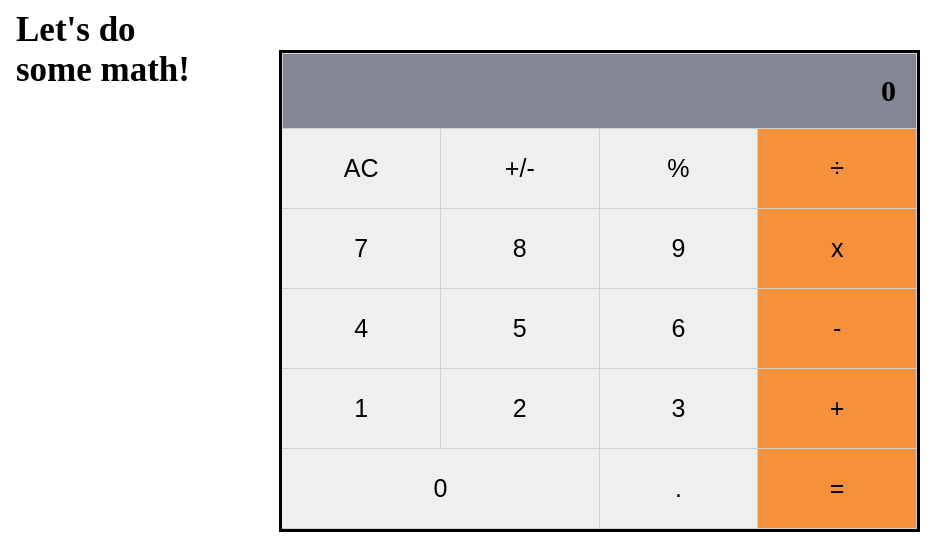
it: Testing for calculator › See if the result of the operation 6*6 is 24
Step 1. Click the button "6" → [679, 329], box x1=600 y1=289 x2=758 y2=369
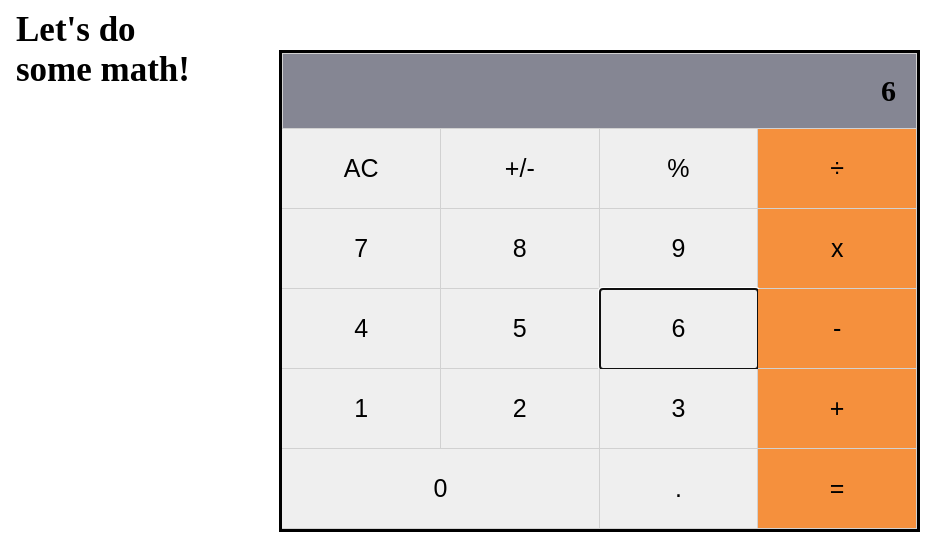
Step 2. Click the button "x" → [838, 249], box x1=758 y1=209 x2=917 y2=289
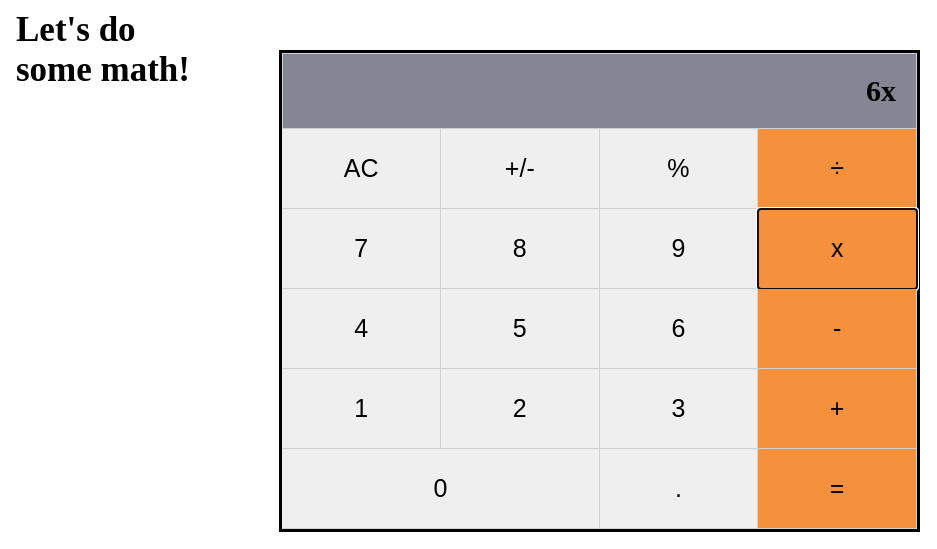
Step 3. Click the button "6" → [679, 329], box x1=600 y1=289 x2=758 y2=369
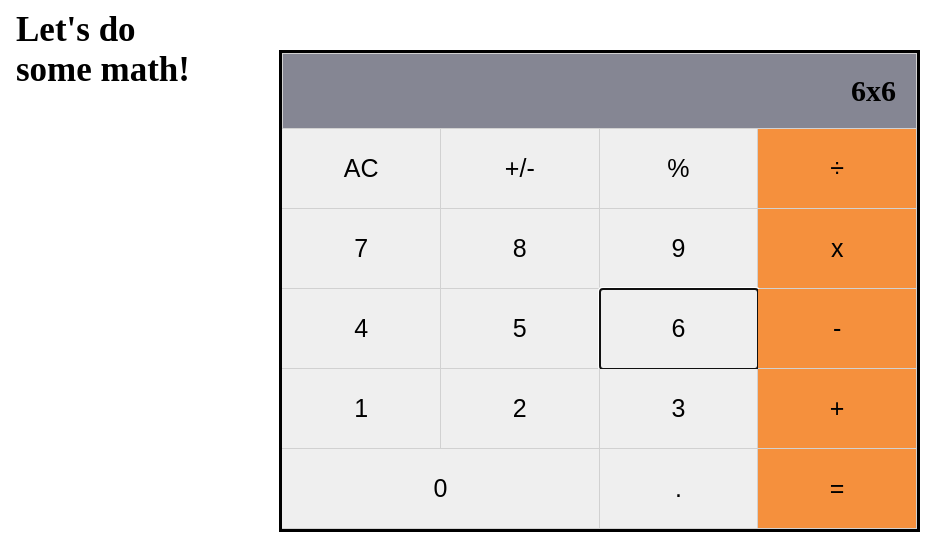
Step 4. Click the button "=" → [838, 489], box x1=758 y1=449 x2=917 y2=529
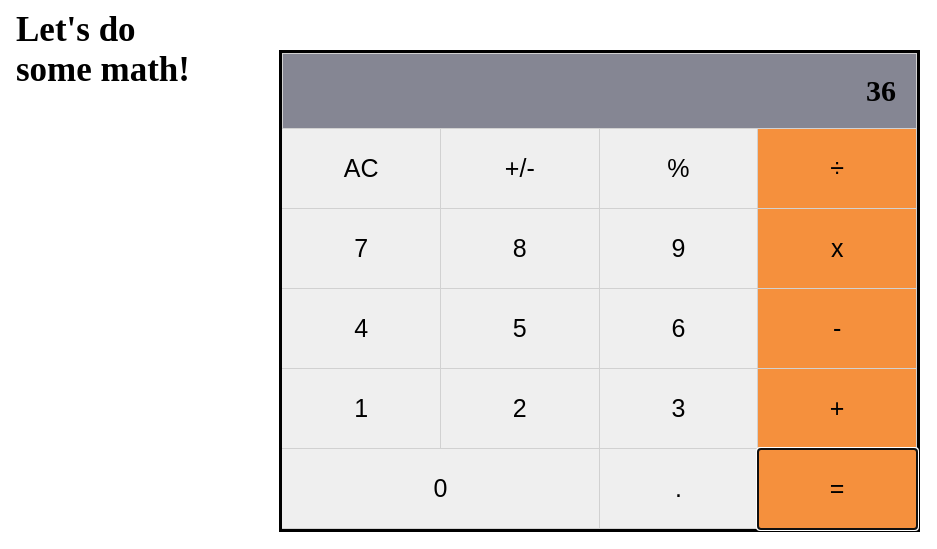
Expected: the heading with test id "testH2" reads "36", x1=866 y1=74 x2=896 y2=107
